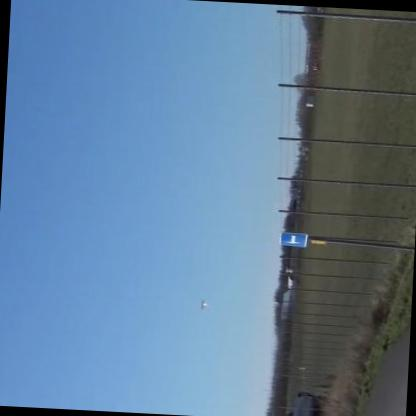plane: (199, 298, 208, 310)
